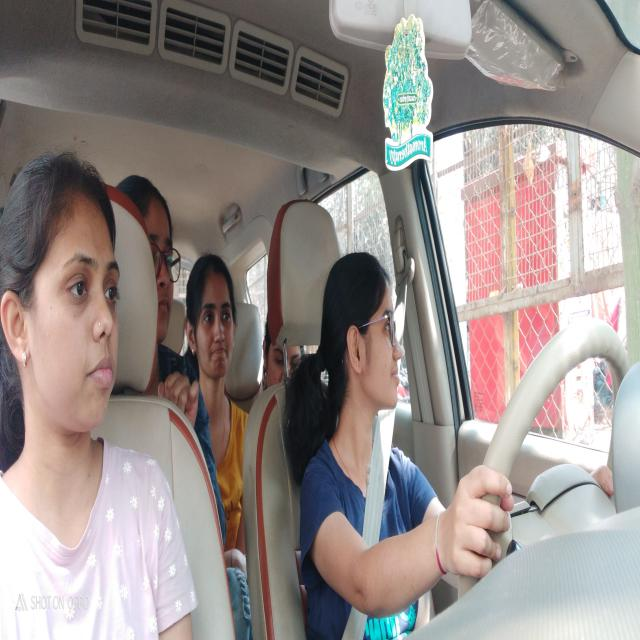LeftRight: (322, 253, 403, 426)
person: (4, 149, 124, 441), (121, 170, 183, 352), (184, 244, 242, 390), (260, 314, 304, 390)
